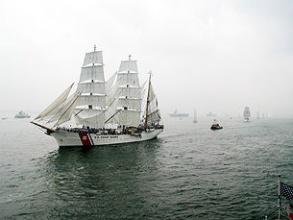fanchuan: (30, 46, 175, 148)
otherboat: (208, 120, 225, 131)
